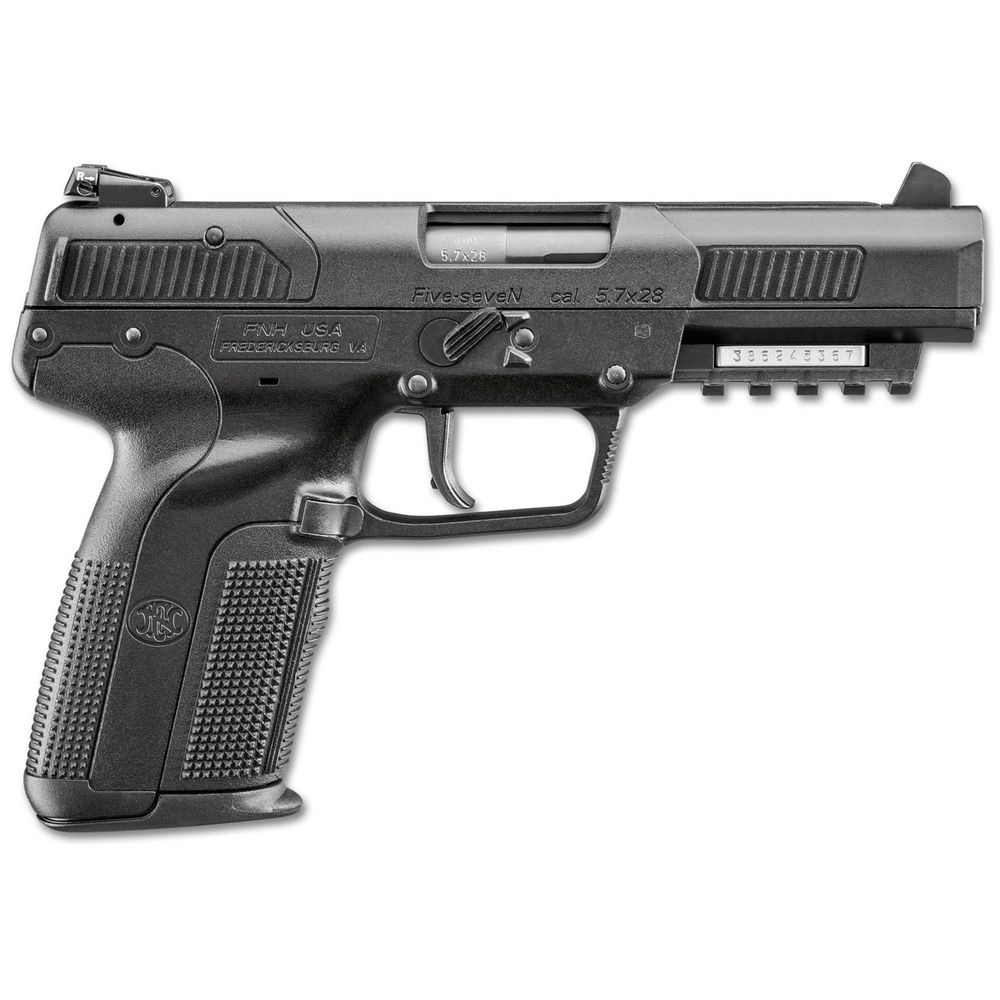gun: (17, 155, 993, 828)
